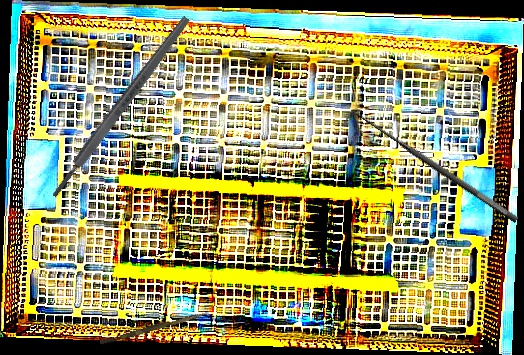Hook Surgical: (341, 103, 521, 237)
Pusher: (99, 307, 210, 348)
Scalpel Handle: (48, 14, 193, 200)
